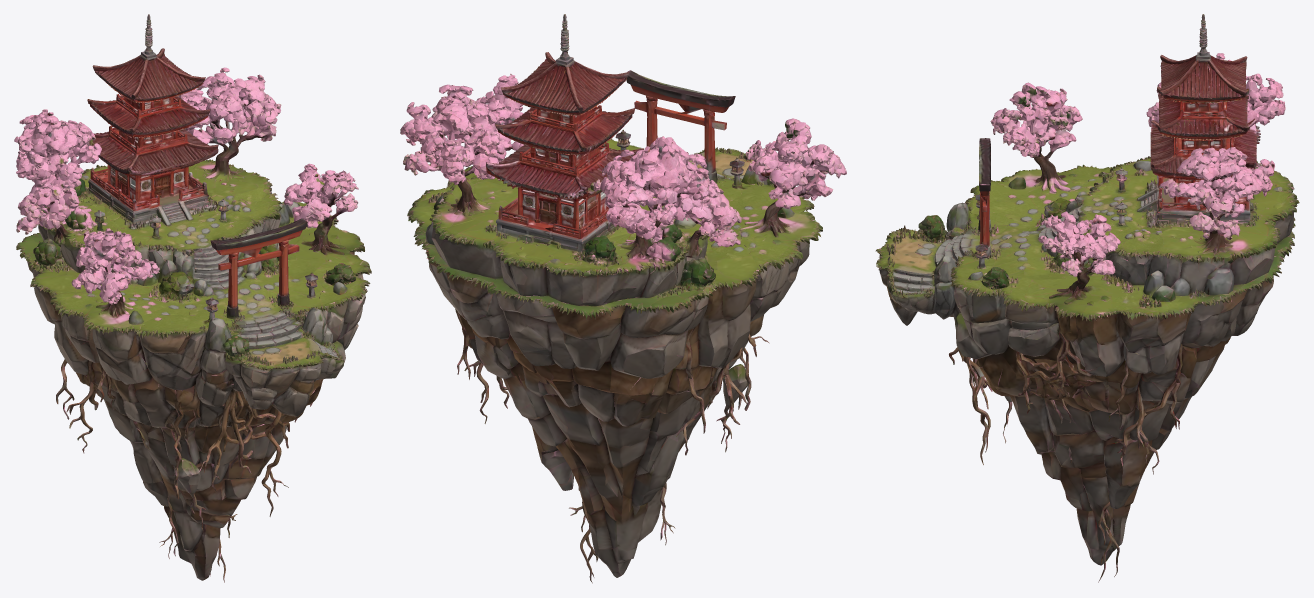
Rendered from pagoda.glb.
The picture shows the model from 3 angles, left to right: view 1: azimuth 30°, elevation 25°; view 2: azimuth 150°, elevation 25°; view 3: azimuth 270°, elevation 25°; orthographic projection. The views are drawn at different scales.
Visible parts, largest first — view 1: Mesh_0; view 2: Mesh_0; view 3: Mesh_0.
Part boxes in pixels (bbox=[...]): Mesh_0: bbox=[14, 14, 371, 582]; Mesh_0: bbox=[400, 14, 846, 583]; Mesh_0: bbox=[875, 14, 1299, 582].
Bounding box in the file's own units: 1.14 × 1.9 × 1.31.
1 material, 1 textured.
